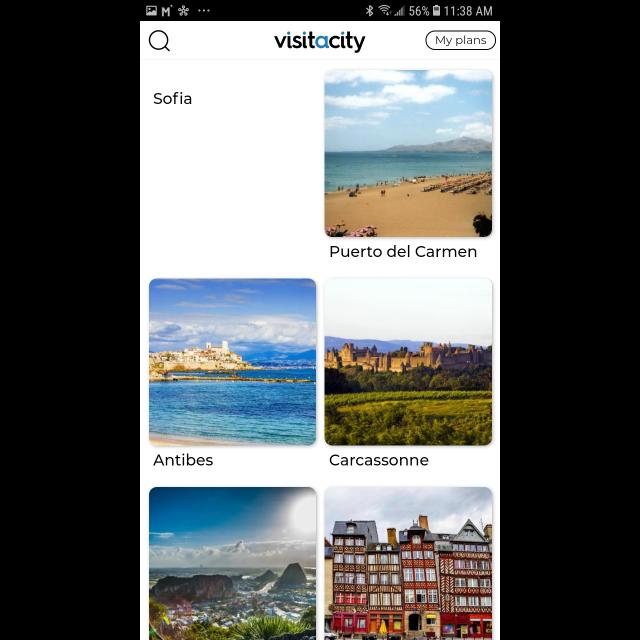icon: (149, 30, 171, 52)
image: (324, 70, 492, 238), (324, 278, 492, 446), (150, 278, 316, 446), (324, 487, 492, 640), (149, 487, 316, 640), (274, 31, 366, 54)
text: (331, 246, 477, 258), (329, 454, 428, 466), (153, 454, 213, 466), (154, 92, 192, 105)
textbutton: (426, 31, 496, 51)
uppertaskbar: (140, 1, 500, 22)
